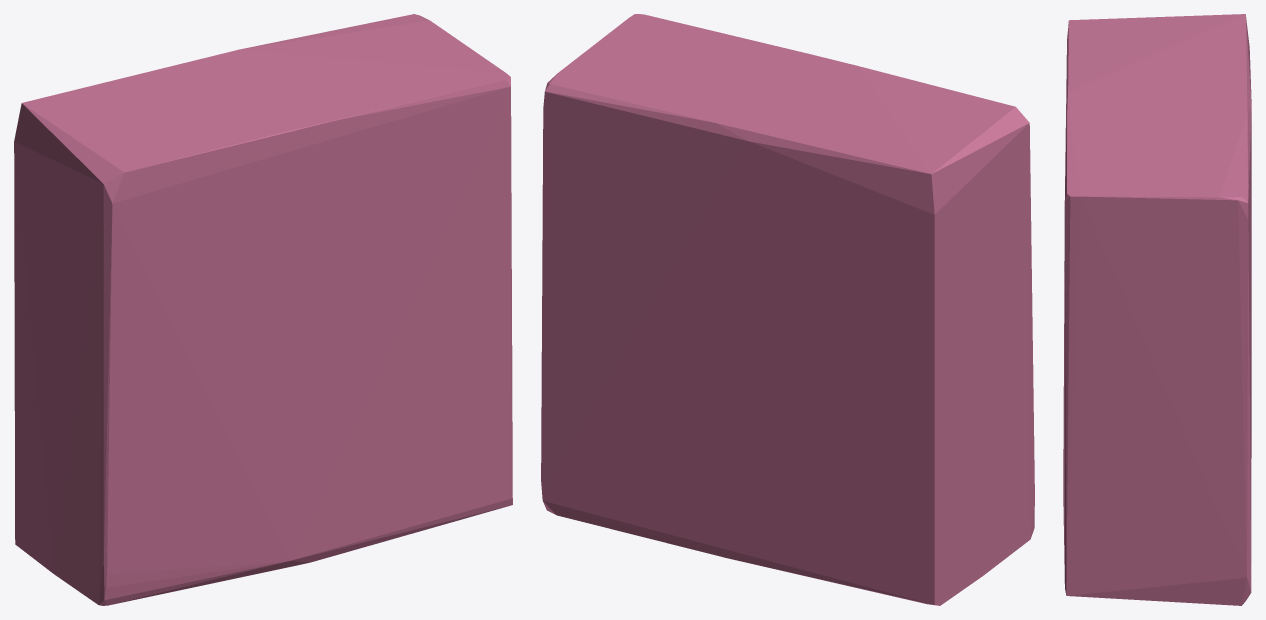
Rendered from box_flat_a05.glb.
The picture shows the model from 3 angles, left to right: view 1: azimuth 30°, elevation 25°; view 2: azimuth 150°, elevation 25°; view 3: azimuth 270°, elevation 25°; orthographic projection. The views are drawn at different scales.
Visible parts, largest first — view 1: geometry_0; view 2: geometry_0; view 3: geometry_0.
Part boxes in pixels (x1,y1,x2,y2): geometry_0: (14,14,512,605); geometry_0: (541,14,1034,605); geometry_0: (1063,14,1251,605).
Bounding box in the file's own units: 0.4663 × 0.4799 × 0.1987.
